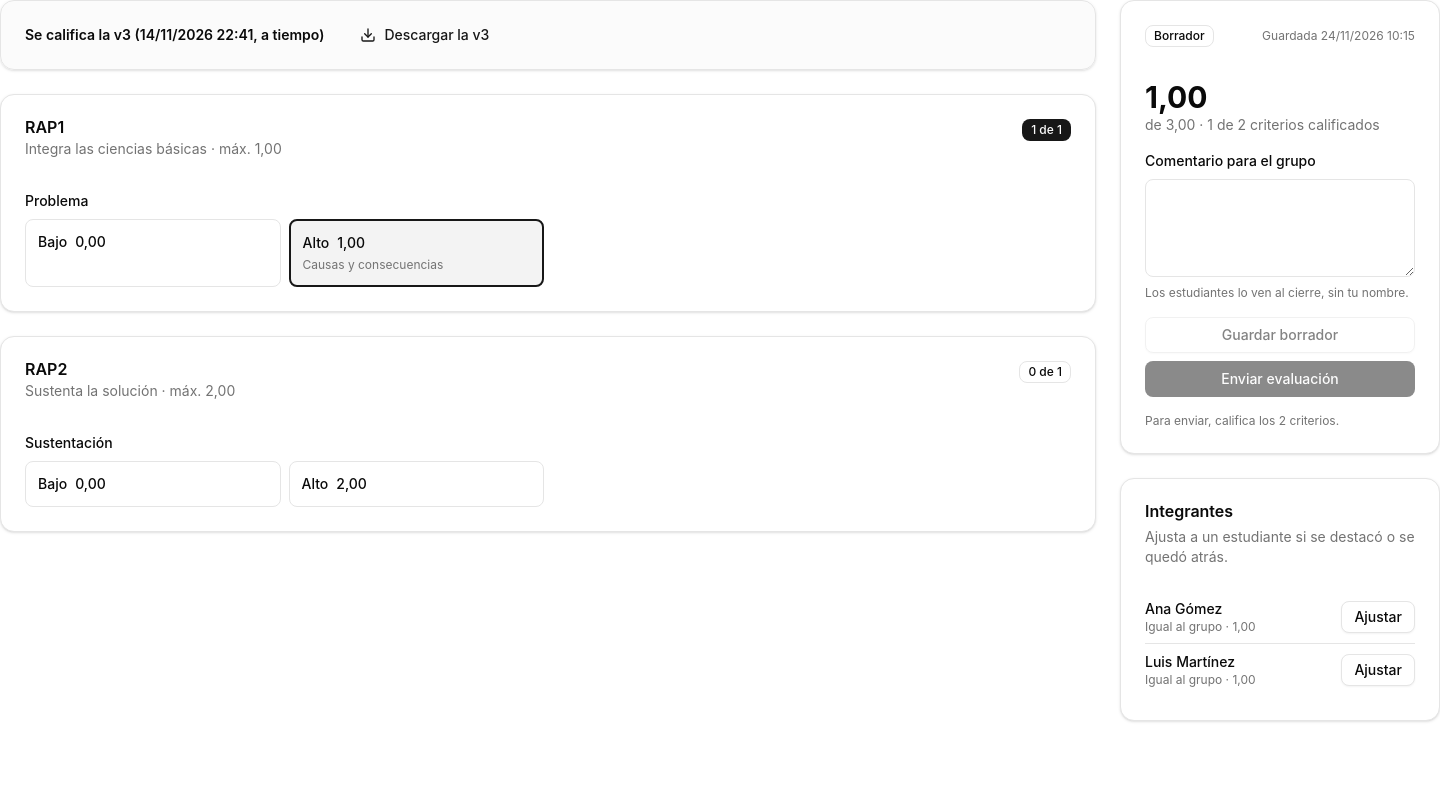
Scenario: EvaluationEditor › submits once every criterion is graded, saving the pending changes first
Click the radio button labelled "Alto 2,00" at (416, 484), box [288, 461, 544, 507]
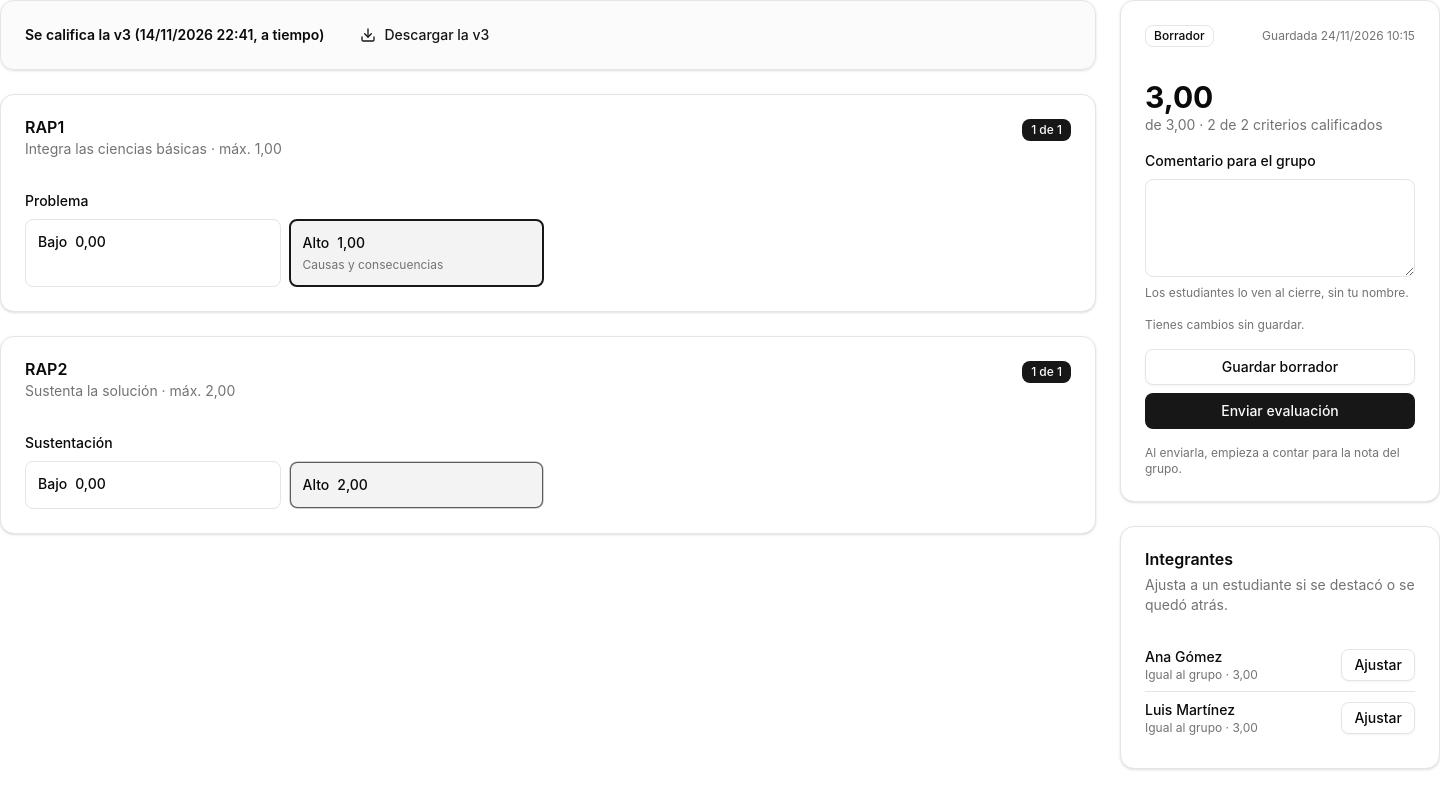
Click the button "Enviar evaluación" at (1280, 411), box [1145, 393, 1415, 429]
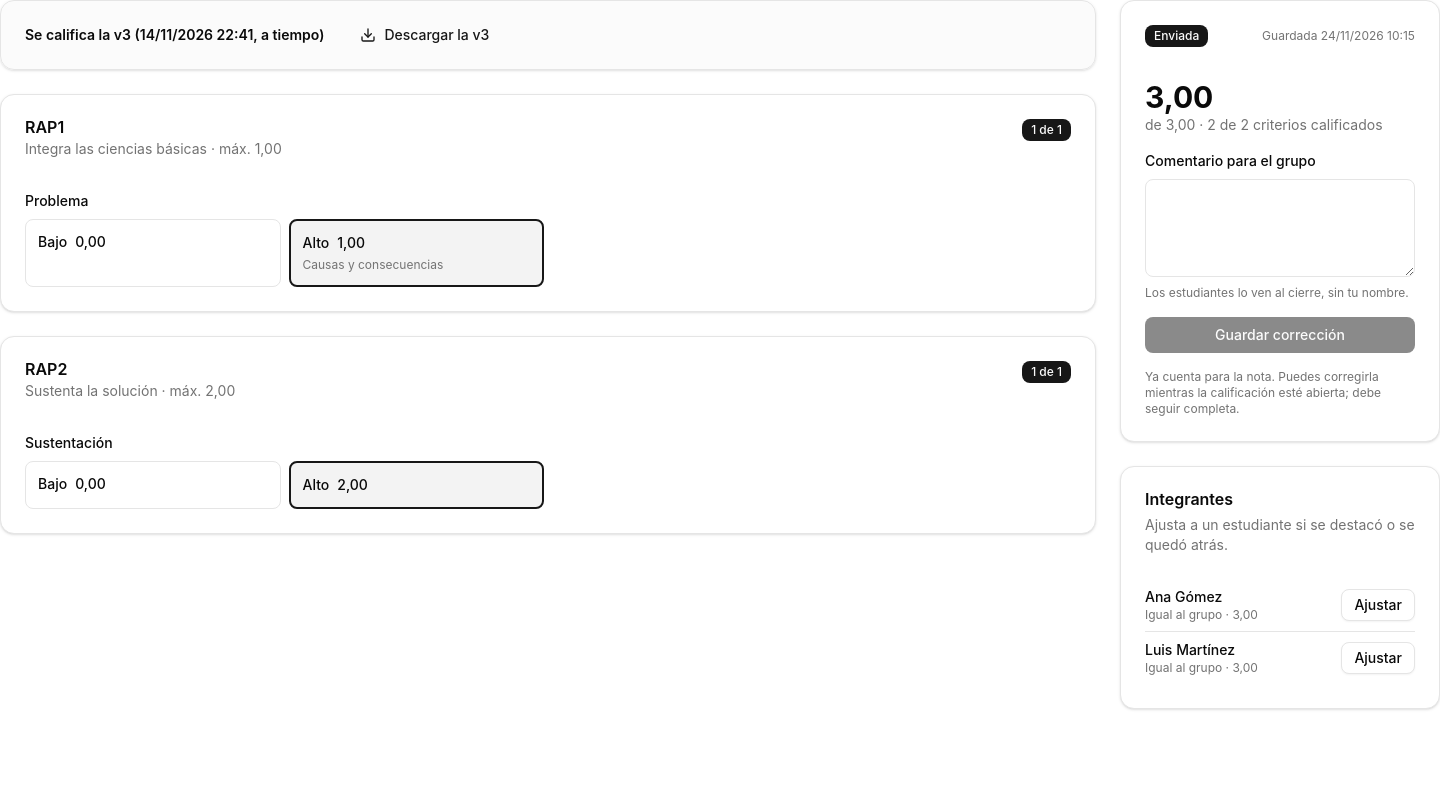
Now the text "Enviada" is shown, box [1145, 25, 1208, 47]
Now the button "Enviar evaluación" is gone
Now the button "Guardar corrección" is disabled, box [1145, 317, 1415, 353]
